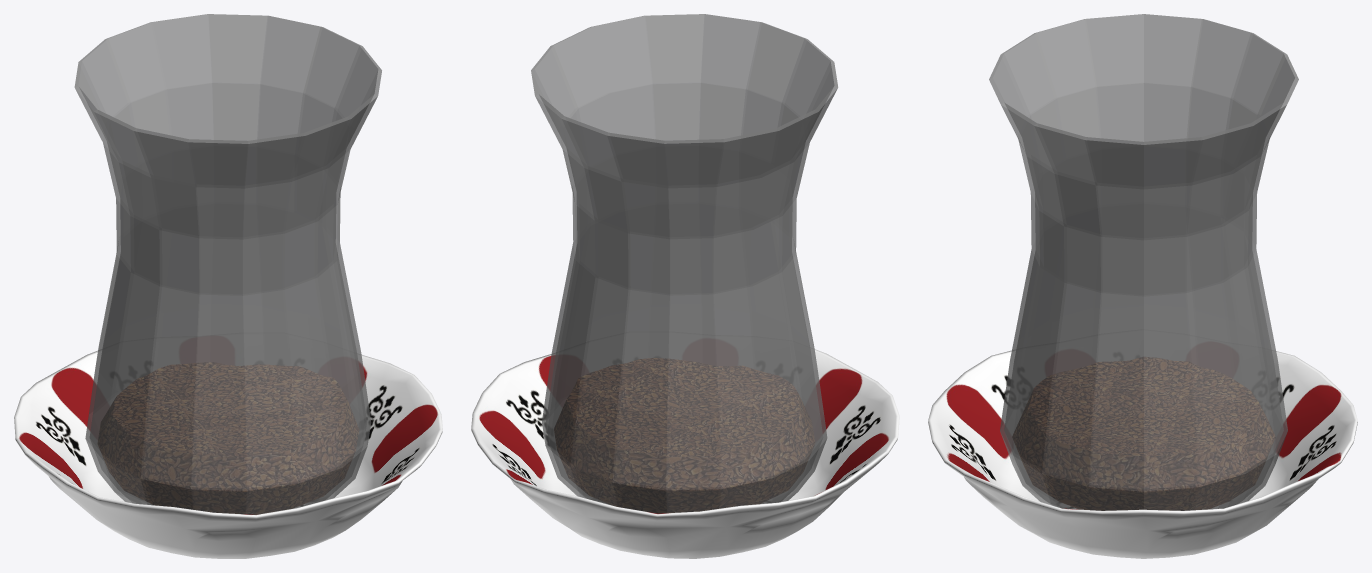
File: Oralets(coffeeGranule).fbx
3 views of the same model, side by side, from view 1: azimuth 30°, elevation 25°; view 2: azimuth 150°, elevation 25°; view 3: azimuth 270°, elevation 25° (orthographic).
Visible parts, largest first — view 1: TeaGlass, CoffeeGranule, TeaGlassCoater; view 2: TeaGlass, CoffeeGranule, TeaGlassCoater; view 3: TeaGlass, CoffeeGranule, TeaGlassCoater.
Boxes of the visible parts, x1,y1,x2,y2 form: TeaGlass: [74, 14, 381, 514]; CoffeeGranule: [98, 362, 358, 514]; TeaGlassCoater: [14, 349, 442, 558]; TeaGlass: [531, 14, 838, 513]; CoffeeGranule: [554, 358, 814, 513]; TeaGlassCoater: [471, 348, 899, 558]; TeaGlass: [989, 14, 1298, 510]; CoffeeGranule: [1012, 357, 1275, 510]; TeaGlassCoater: [928, 350, 1357, 558].
Size of the model in its own units: 51.36 by 56.79 by 51.36.
3 materials, 2 textured.
